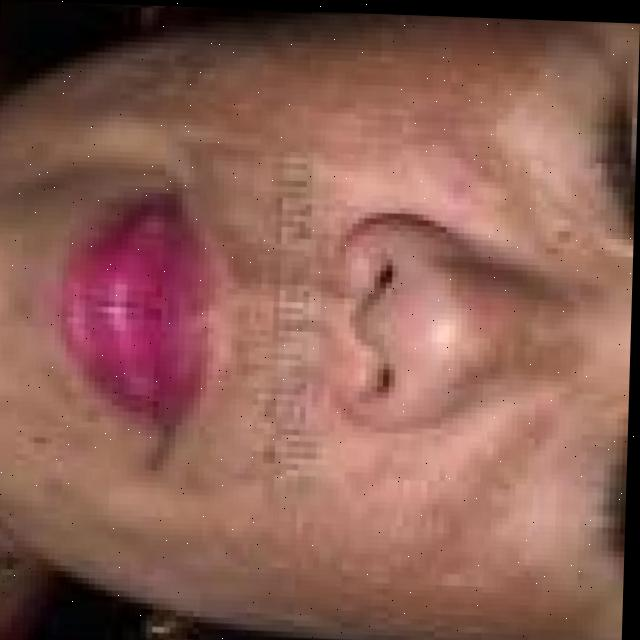Melasma: (288, 126, 550, 515)
